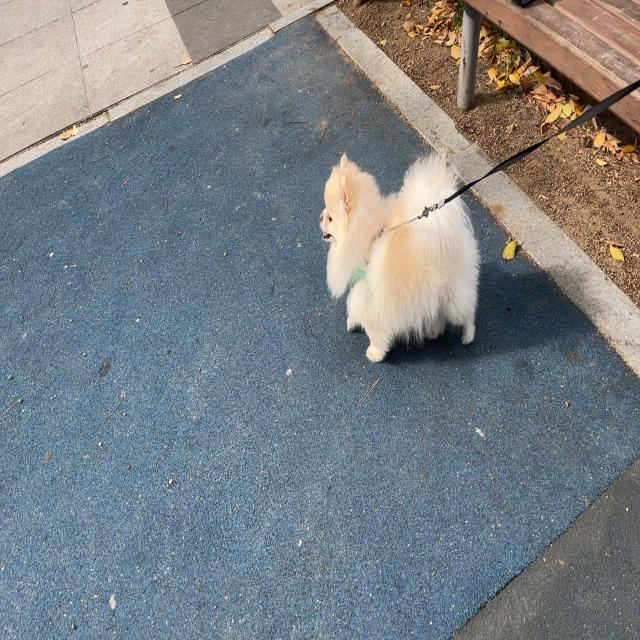Dog: (320, 152, 481, 362)
